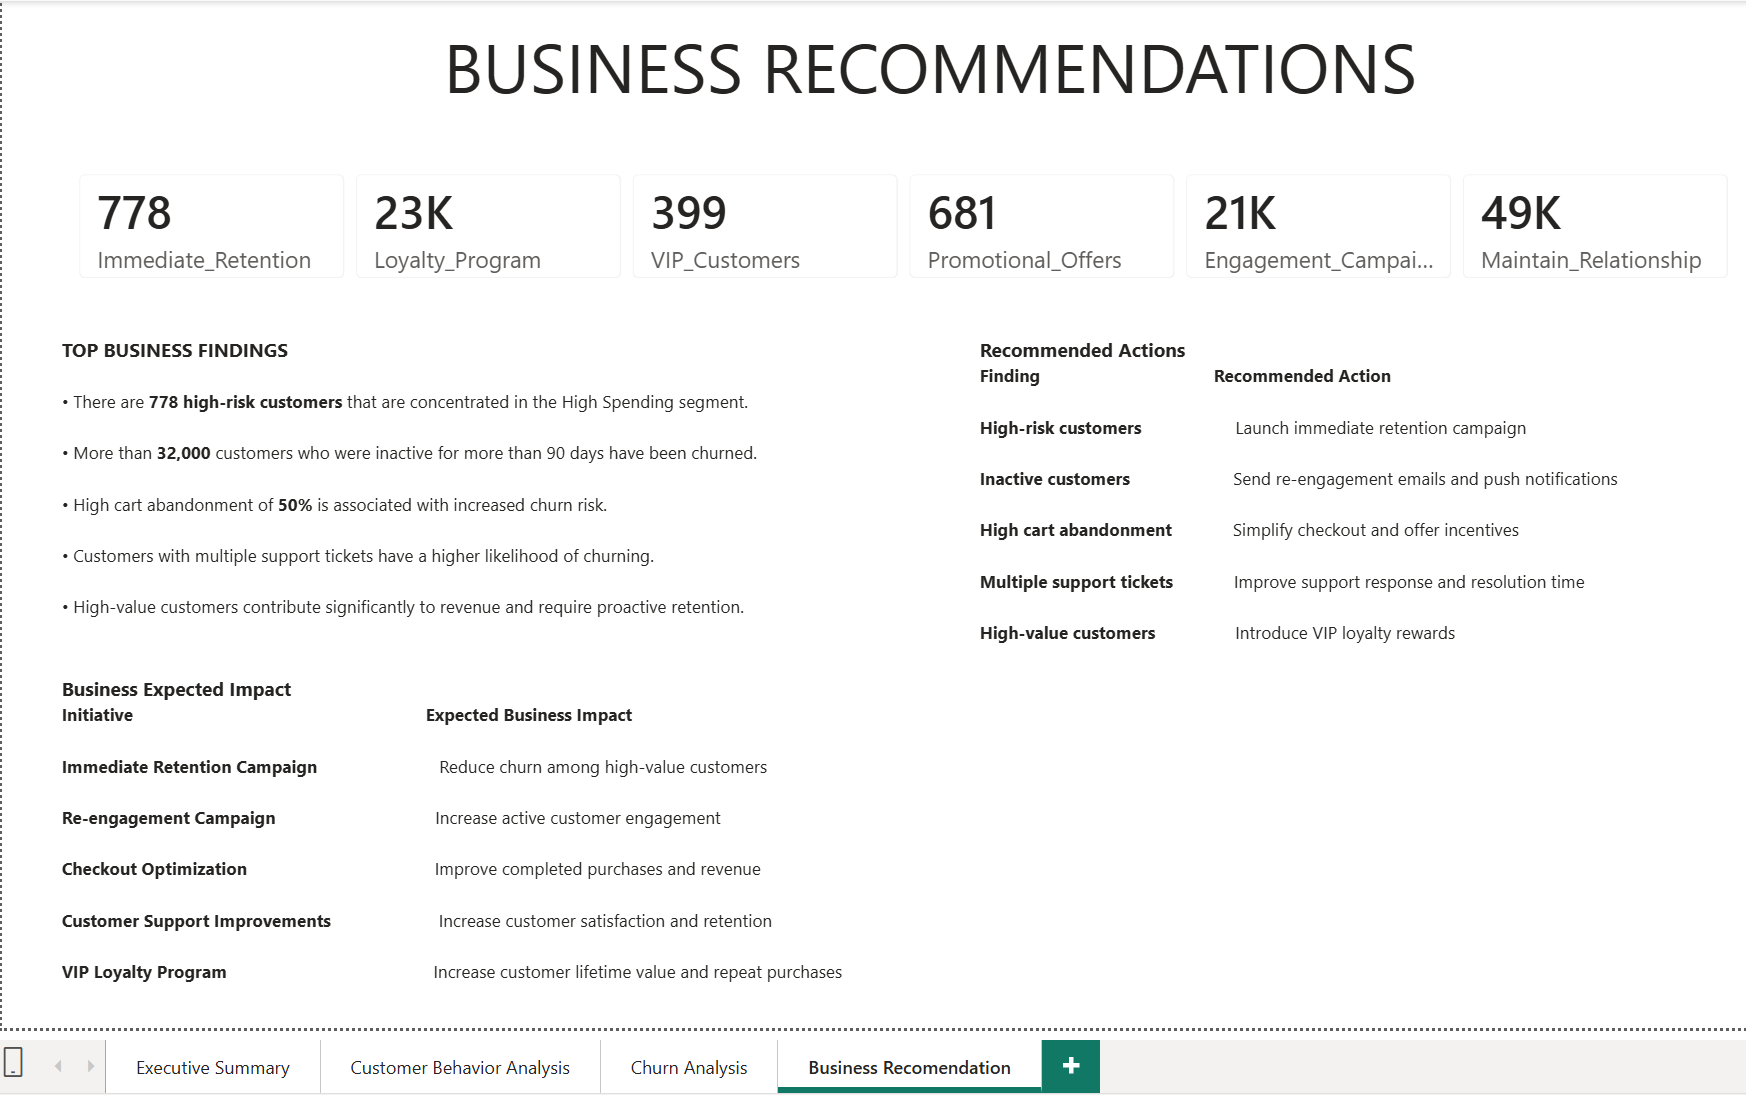

The page's visual inventory and layout, read from the dashboard file:
{"tool":"powerbi","page":{"name":"Business Recomendation","canvas":[1280,720],"ordinal":3},"visuals":[{"type":"cardVisual","fields":{"Data":["SQL_data.Immediate_Retention","SQL_data.Loyalty_Program","SQL_data.VIP_Customers","SQL_data.Promotional_Offers","SQL_data.Engagement_Campaign","SQL_data.Maintain_Relationship"]},"box":[36.8,104.1,1193.6,107.3],"z":0},{"type":"textbox","box":[51.5,7.4,1198.8,76.8],"z":1000},{"type":"textbox","box":[36.8,229,565.9,217.1],"z":2000},{"type":"textbox","box":[36.8,467.2,692.2,239.5],"z":3000},{"type":"textbox","box":[680.4,229,550.1,229],"z":4000}]}

Visuals, with their boxes on the page's 1280x720 design canvas (x1, y1, x2, y2). These are canvas units, not pixel positions in the 1746x1095 screenshot, which may show the page scaled, cropped or inside an application window:
cardVisual - SQL_data.Immediate_Retention x SQL_data.Loyalty_Program: [37, 104, 1230, 211]
textbox: [52, 7, 1250, 84]
textbox: [37, 229, 603, 446]
textbox: [37, 467, 729, 707]
textbox: [680, 229, 1230, 458]
